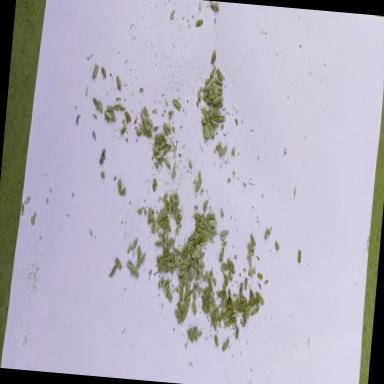pbw: (161, 229, 169, 252), (167, 234, 176, 251), (248, 288, 256, 306), (104, 110, 116, 122), (150, 216, 158, 234), (255, 292, 265, 306), (136, 252, 146, 265), (202, 196, 210, 212), (195, 176, 203, 192), (92, 62, 100, 78), (189, 299, 198, 313), (242, 311, 249, 329), (185, 291, 191, 311), (143, 126, 153, 138), (200, 234, 210, 246), (109, 264, 117, 278), (250, 233, 258, 247), (211, 312, 218, 328), (196, 264, 204, 278), (204, 124, 212, 138), (251, 305, 261, 316), (172, 99, 182, 110), (207, 218, 218, 228), (159, 139, 169, 150), (214, 76, 225, 86), (138, 119, 148, 130), (175, 300, 184, 312), (202, 106, 209, 121), (216, 68, 224, 81), (222, 339, 230, 352), (100, 66, 108, 79), (162, 144, 172, 154), (212, 95, 222, 105), (172, 158, 177, 178), (187, 264, 194, 278), (211, 50, 218, 64), (158, 208, 165, 222), (203, 286, 210, 300), (163, 198, 170, 212), (222, 274, 230, 286), (114, 257, 122, 269), (148, 208, 154, 224), (116, 74, 122, 90), (222, 295, 228, 311), (166, 290, 174, 302), (220, 144, 228, 156), (190, 266, 196, 282), (162, 123, 170, 135), (142, 104, 150, 116), (163, 156, 171, 168), (180, 272, 186, 288), (244, 308, 252, 320), (226, 294, 232, 310), (248, 250, 253, 268), (234, 303, 244, 312), (208, 276, 214, 291), (145, 115, 153, 126), (264, 228, 271, 240), (132, 236, 138, 250), (136, 246, 142, 260), (191, 328, 198, 340), (210, 1, 219, 10), (204, 78, 212, 88), (200, 116, 210, 124), (152, 144, 160, 154), (197, 258, 205, 268), (188, 232, 196, 242), (161, 278, 169, 288), (169, 195, 177, 205), (181, 262, 191, 270), (206, 110, 216, 118), (206, 122, 214, 132), (220, 262, 230, 270), (201, 304, 209, 314), (176, 258, 184, 268), (244, 277, 250, 290), (182, 298, 188, 311), (152, 178, 158, 191), (164, 279, 170, 292), (97, 100, 104, 111), (249, 265, 256, 276), (179, 288, 184, 303), (117, 179, 122, 194), (220, 229, 229, 237), (208, 88, 214, 100), (173, 254, 179, 266), (181, 311, 187, 323), (244, 303, 252, 312), (196, 282, 202, 294), (227, 258, 235, 267), (242, 298, 248, 310), (106, 104, 115, 112), (164, 254, 173, 262), (217, 114, 226, 122), (214, 306, 219, 320), (219, 248, 224, 262), (92, 96, 99, 106), (222, 310, 229, 320), (213, 101, 223, 108), (208, 104, 213, 118), (247, 242, 254, 252), (210, 67, 216, 78), (184, 288, 189, 301), (210, 227, 215, 240), (297, 249, 302, 262), (196, 18, 204, 26), (194, 212, 202, 220), (240, 282, 244, 298), (207, 212, 215, 220), (136, 129, 144, 137), (256, 293, 260, 308), (201, 213, 206, 225), (188, 328, 194, 338), (214, 334, 219, 346), (198, 227, 208, 233), (214, 86, 219, 98), (182, 244, 188, 254), (231, 300, 236, 312), (207, 302, 212, 314), (126, 111, 132, 121), (155, 240, 165, 246), (195, 262, 200, 274), (214, 316, 218, 331), (160, 265, 168, 272), (218, 290, 227, 296), (236, 326, 240, 339), (220, 206, 225, 216), (275, 240, 280, 250), (140, 112, 145, 122), (228, 270, 233, 280), (218, 140, 223, 150), (231, 311, 238, 318), (174, 248, 181, 255), (258, 272, 264, 280), (198, 90, 202, 102), (174, 208, 178, 220), (157, 156, 163, 164), (230, 266, 236, 274), (211, 120, 219, 126), (168, 262, 176, 268), (224, 320, 232, 326), (220, 266, 226, 274), (176, 222, 180, 234), (187, 240, 191, 252), (202, 300, 208, 308), (204, 270, 208, 281), (210, 270, 214, 281), (160, 133, 166, 140), (100, 171, 106, 178), (154, 161, 160, 168), (205, 90, 209, 100), (194, 255, 197, 268), (188, 162, 194, 168), (212, 112, 218, 118), (86, 86, 89, 98), (153, 125, 159, 131), (92, 131, 96, 139), (222, 282, 226, 290), (168, 223, 172, 231), (207, 222, 210, 232), (169, 204, 172, 214), (215, 144, 220, 150), (232, 316, 237, 322), (136, 208, 142, 213), (161, 276, 165, 283), (92, 113, 97, 118), (168, 110, 174, 114), (214, 278, 217, 286), (156, 154, 162, 158), (184, 278, 188, 284), (246, 300, 250, 306), (196, 274, 200, 280), (186, 284, 192, 288), (200, 286, 204, 292), (264, 279, 268, 284), (221, 88, 223, 98), (158, 280, 160, 289), (252, 248, 254, 256), (176, 220, 180, 224), (208, 98, 210, 106), (210, 100, 212, 105)
